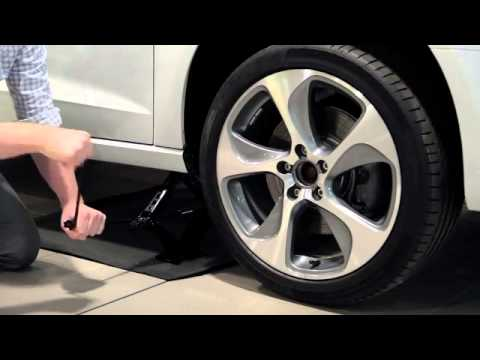tire: (196, 47, 464, 304)
